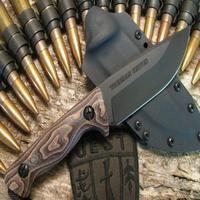knife: (3, 23, 194, 196)
